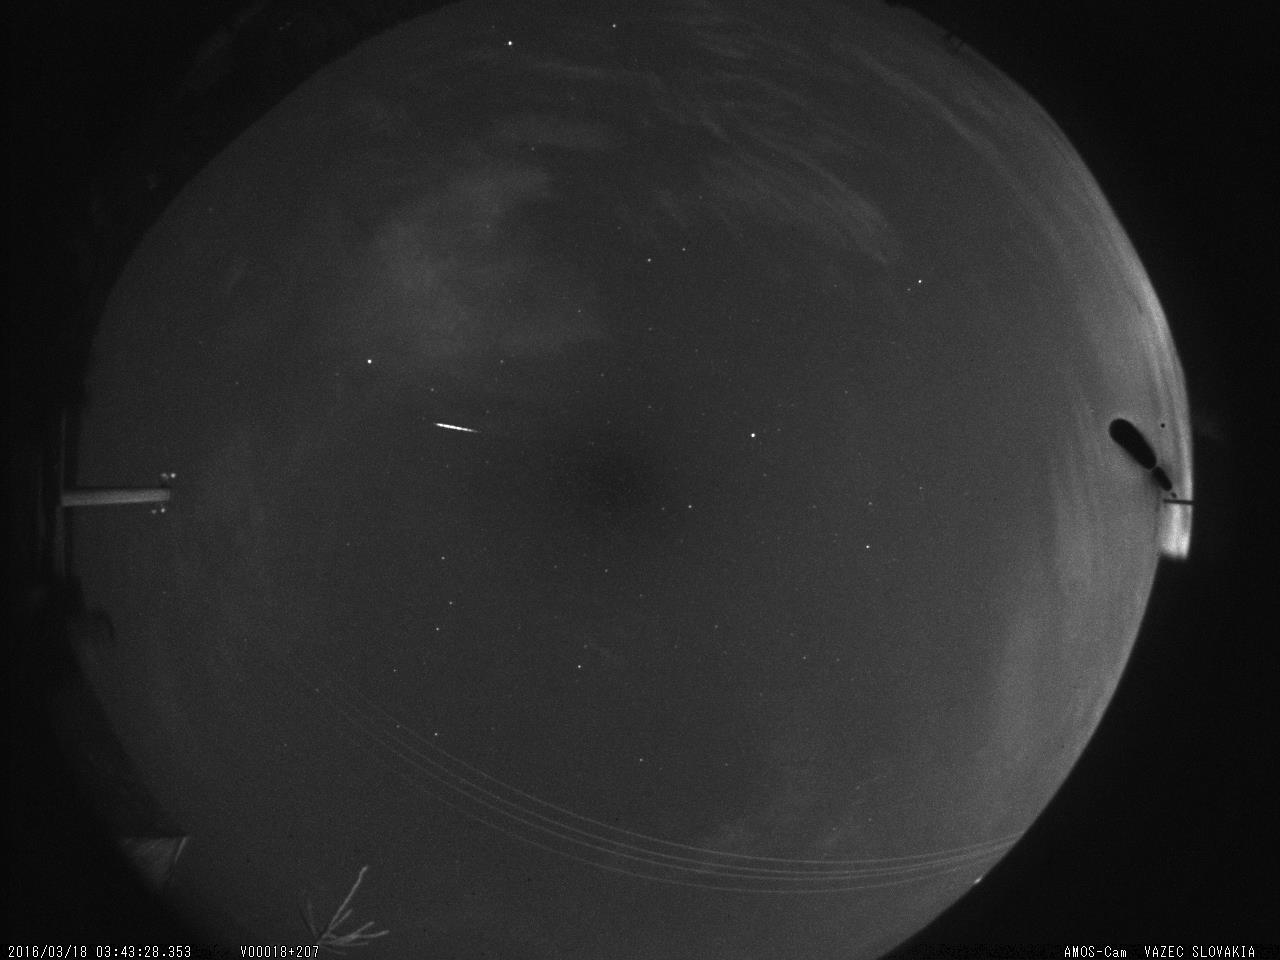meteor: (429, 412, 489, 448)
